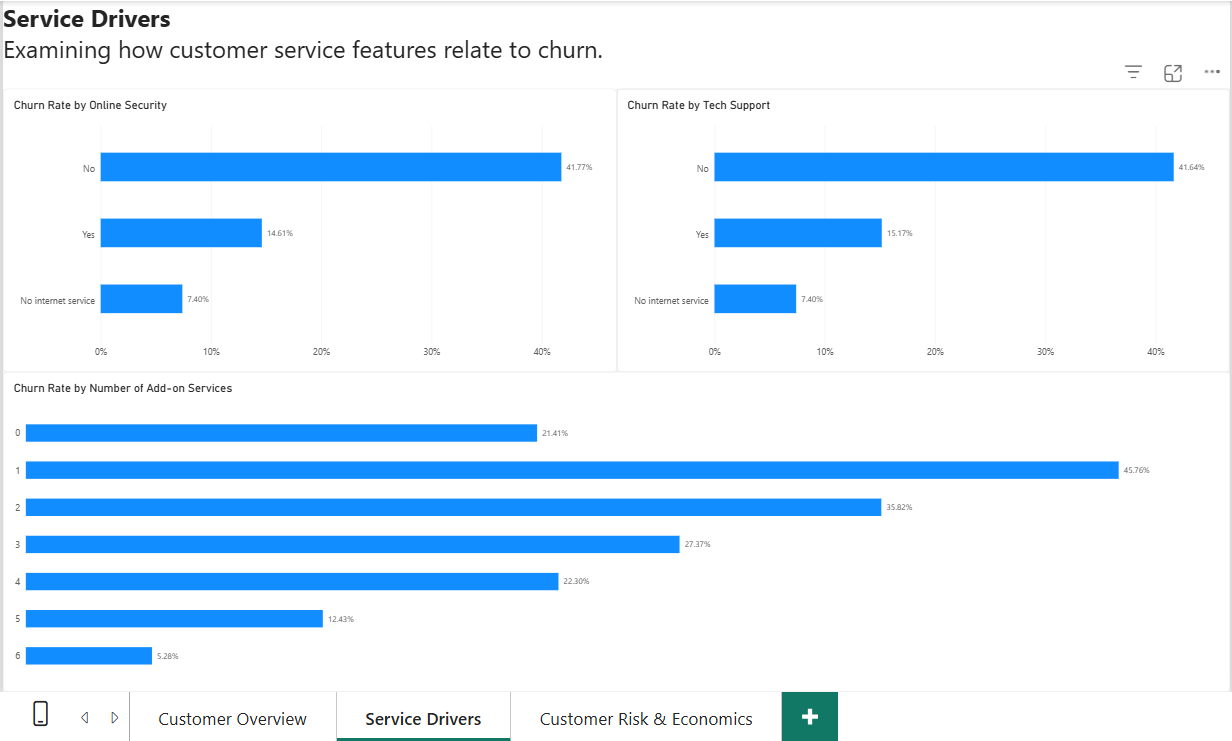

What the dashboard file says about the page in this screenshot:
{"tool":"powerbi","page":{"name":"Service Drivers","canvas":[1920,1080],"ordinal":1},"visuals":[{"type":"textbox","box":[0,0,1921.1,137.6],"z":0},{"type":"clusteredBarChart","title":"Churn Rate by Online Security","fields":{"Category":["CustomerChurn.OnlineSecurity"],"Y":["CustomerChurn.Churn Rate"]},"box":[0,136.7,960,443.3],"z":1000},{"type":"clusteredBarChart","title":"Churn Rate by Tech Support","fields":{"Category":["CustomerChurn.TechSupport"],"Y":["CustomerChurn.Churn Rate"]},"box":[960,136.7,960,443.3],"z":2000},{"type":"clusteredBarChart","title":"Churn Rate by Number of Add-on Services","fields":{"Category":["CustomerChurn.Add-on Service Count"],"Y":["CustomerChurn.Churn Rate"]},"box":[0,580,1920,500],"z":3000}]}

Visuals, with their boxes on the page's 1920x1080 design canvas (x1, y1, x2, y2). These are canvas units, not pixel positions in the 1232x741 screenshot, which may show the page scaled, cropped or inside an application window:
textbox: {"left": 0, "top": 0, "right": 1921, "bottom": 138}
"Churn Rate by Online Security" clusteredBarChart: {"left": 0, "top": 137, "right": 960, "bottom": 580}
"Churn Rate by Tech Support" clusteredBarChart: {"left": 960, "top": 137, "right": 1920, "bottom": 580}
"Churn Rate by Number of Add-on Services" clusteredBarChart: {"left": 0, "top": 580, "right": 1920, "bottom": 1080}
